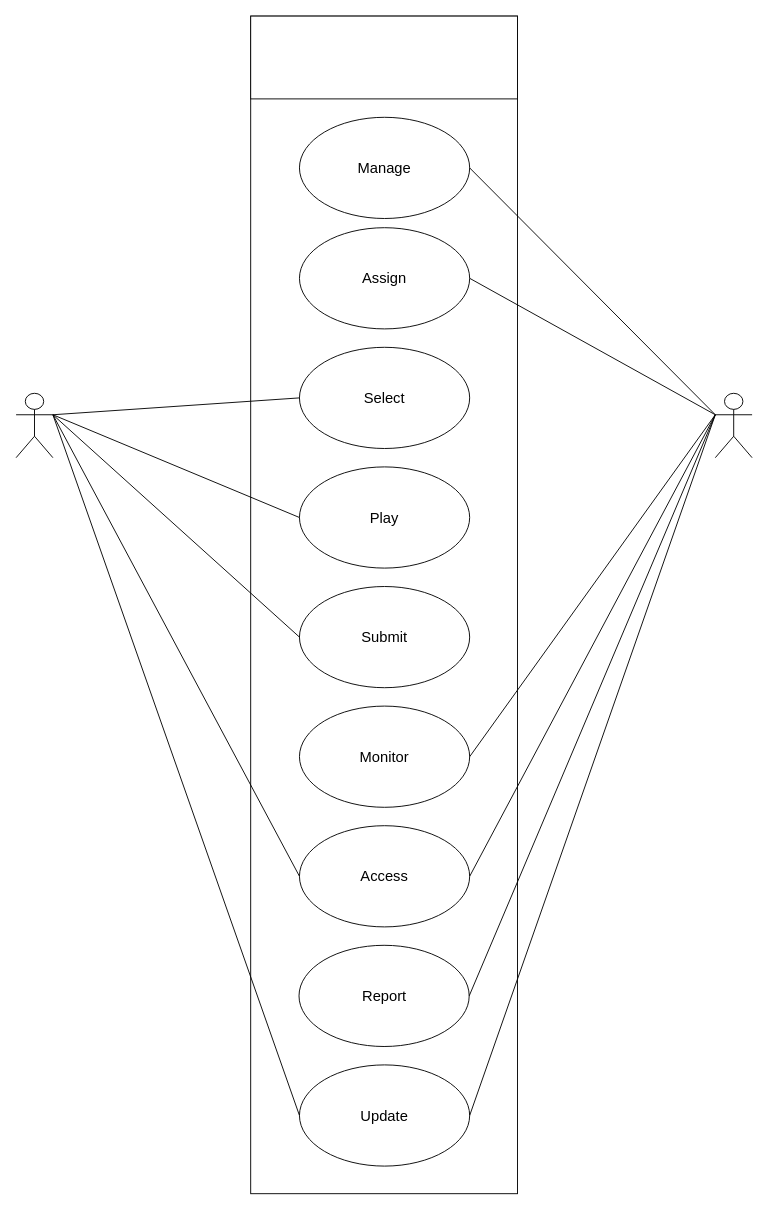
This 775x1210 diagram has some shape labels left out. The centre of each missing label's shape, as x and y in pixels:
"Azurion Rhythm Game Management System" goes at [384,57].
"Moderator" goes at [733,425].
"Player" goes at [34,425].
